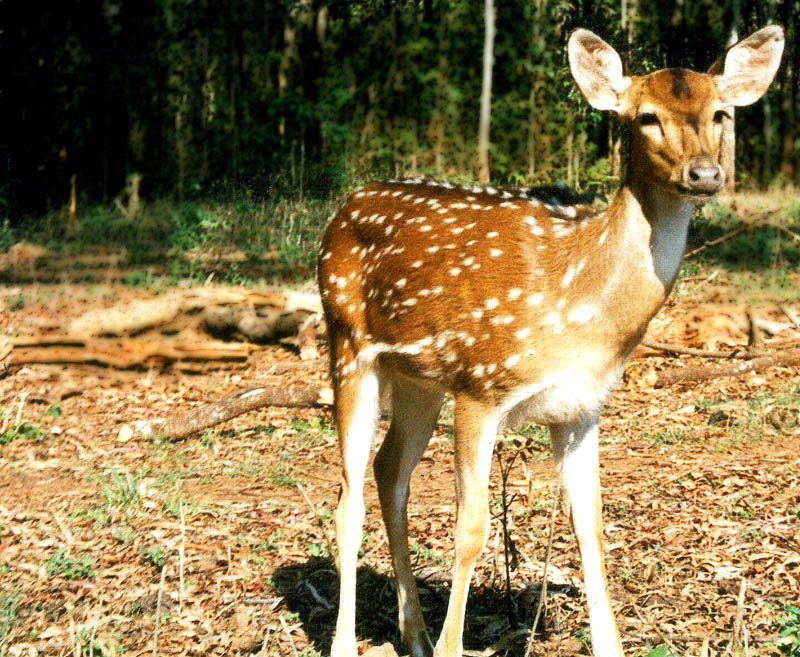Deer: (312, 27, 783, 657)
